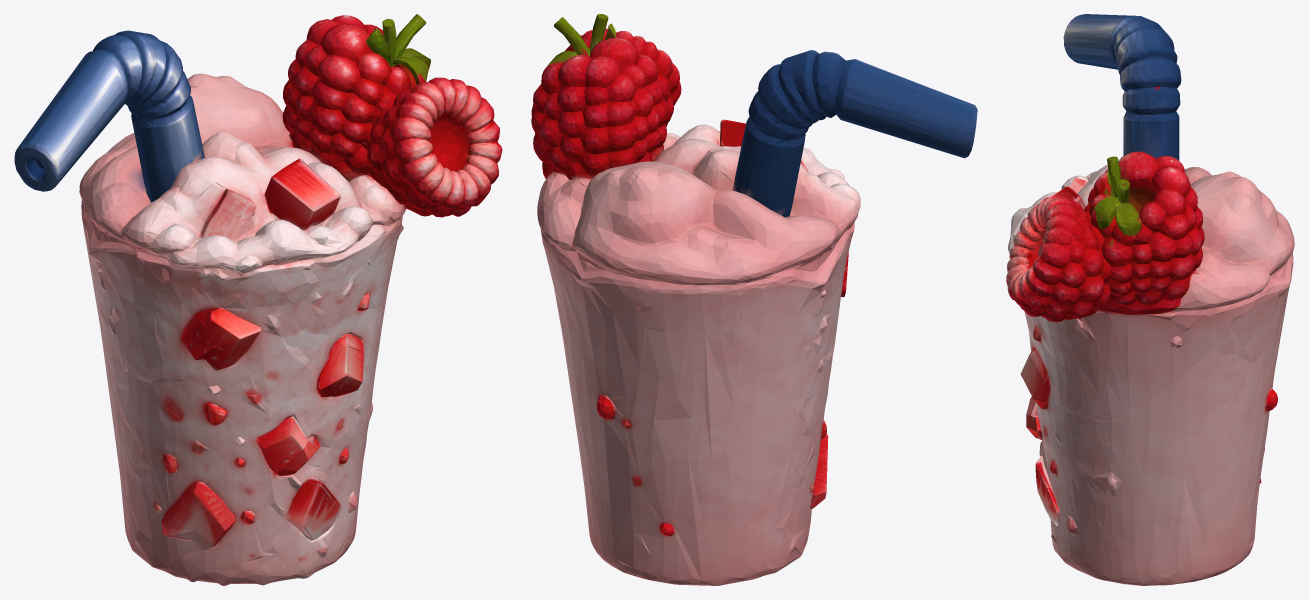
File: Web_MilkSlush_Raspberry.obj
3 views of the same model, side by side, from view 1: azimuth 30°, elevation 25°; view 2: azimuth 150°, elevation 25°; view 3: azimuth 270°, elevation 25° (orthographic). The views are drawn at different scales.
Visible parts, largest first — view 1: Web_MilkSlush_Raspberry; view 2: Web_MilkSlush_Raspberry; view 3: Web_MilkSlush_Raspberry.
Boxes of the visible parts, x1,y1,x2,y2 form: Web_MilkSlush_Raspberry: [14, 14, 502, 585]; Web_MilkSlush_Raspberry: [531, 14, 977, 585]; Web_MilkSlush_Raspberry: [1006, 14, 1294, 585].
Bounding box in the file's own units: 0.885 × 0.9993 × 0.5546.
Materials: 1 (1 with a texture image).
